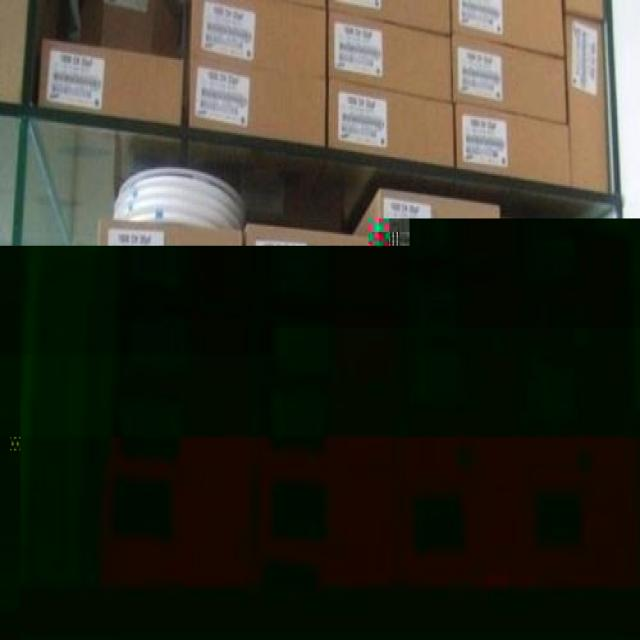box: (151, 0, 326, 147), (378, 333, 507, 485), (79, 464, 233, 585), (503, 348, 621, 490), (502, 217, 618, 360), (90, 382, 239, 476), (379, 481, 509, 585), (99, 218, 242, 311), (244, 300, 379, 396), (95, 300, 239, 389), (351, 189, 502, 273), (244, 224, 379, 314), (239, 382, 378, 469), (38, 43, 183, 126), (507, 485, 625, 585), (238, 464, 378, 548), (328, 9, 453, 102), (328, 79, 454, 166), (380, 259, 503, 348), (451, 32, 566, 123), (456, 102, 571, 189), (564, 15, 611, 193), (451, 0, 566, 58), (233, 550, 375, 585), (328, 0, 451, 34), (562, 2, 605, 20)
